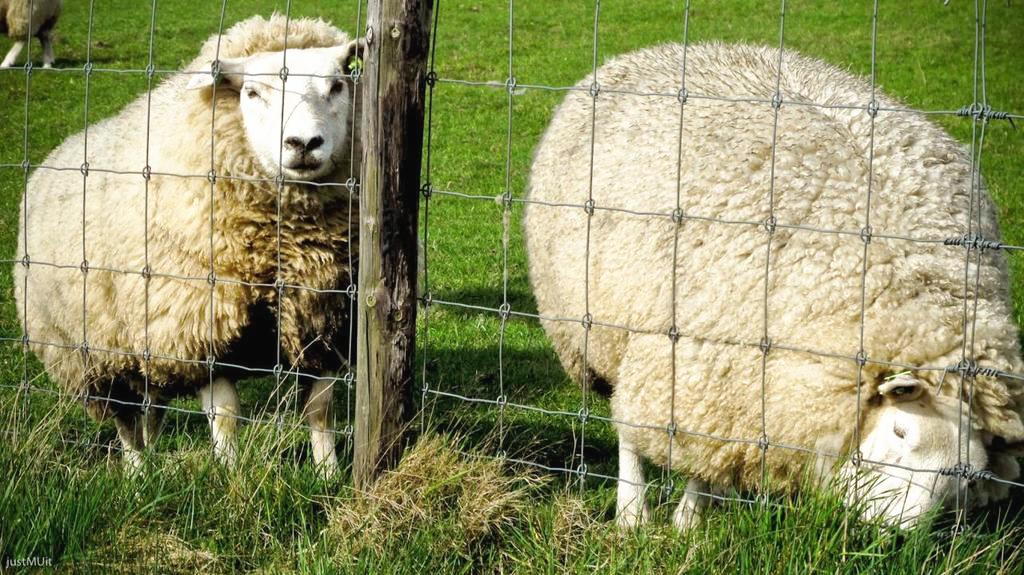Sheep: (523, 38, 1023, 539), (7, 13, 365, 488), (0, 1, 56, 76)
